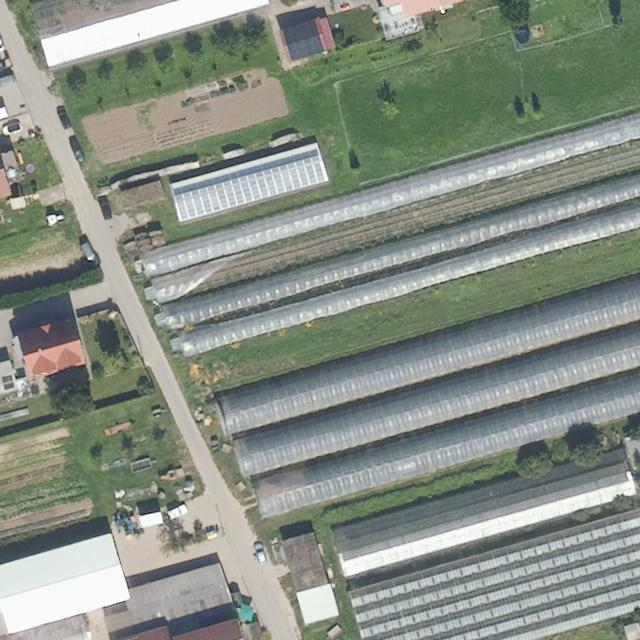PV: (173, 155, 327, 222), (281, 18, 325, 62)
